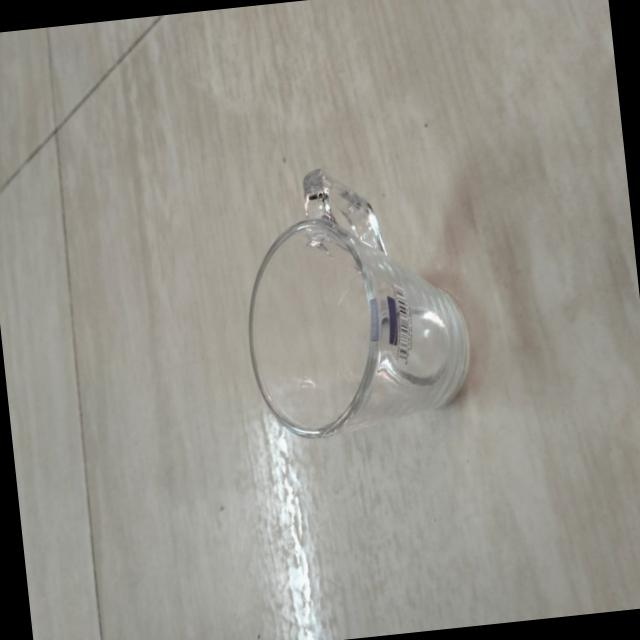glass-VX4N: (225, 154, 481, 456)
